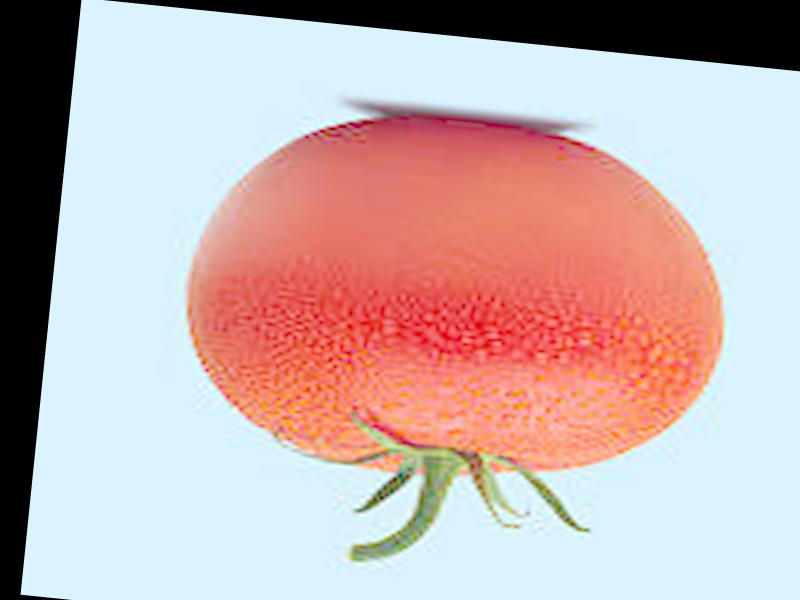Tomato: (173, 99, 742, 501)
